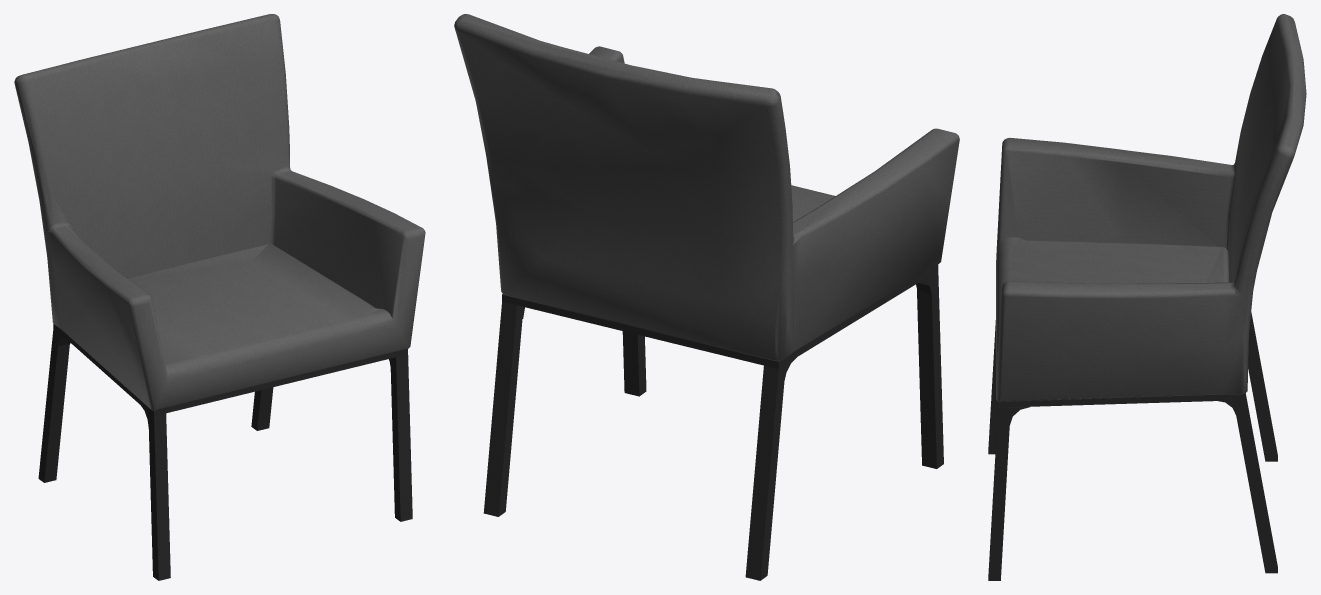
Rendered from modell.glb.
3 renders of one model, left to right at view 1: azimuth 30°, elevation 25°; view 2: azimuth 150°, elevation 25°; view 3: azimuth 270°, elevation 25°, orthographic. The views are drawn at different scales.
Visible parts, largest first — view 1: Assembly~5, 3DGeom~1_Defintion#1; view 2: Assembly~5, 3DGeom~1_Defintion#1; view 3: Assembly~5, 3DGeom~1_Defintion#1.
Part boxes in pixels (box(x1,y1,x2,y2)): Assembly~5: box(14, 14, 425, 410); 3DGeom~1_Defintion#1: box(38, 324, 412, 580); Assembly~5: box(454, 14, 959, 360); 3DGeom~1_Defintion#1: box(483, 264, 943, 580); Assembly~5: box(996, 14, 1306, 401); 3DGeom~1_Defintion#1: box(988, 312, 1277, 580).
Bounding box in the file's own units: 0.6409 × 0.8363 × 0.5548.
2 materials, 2 textured.
